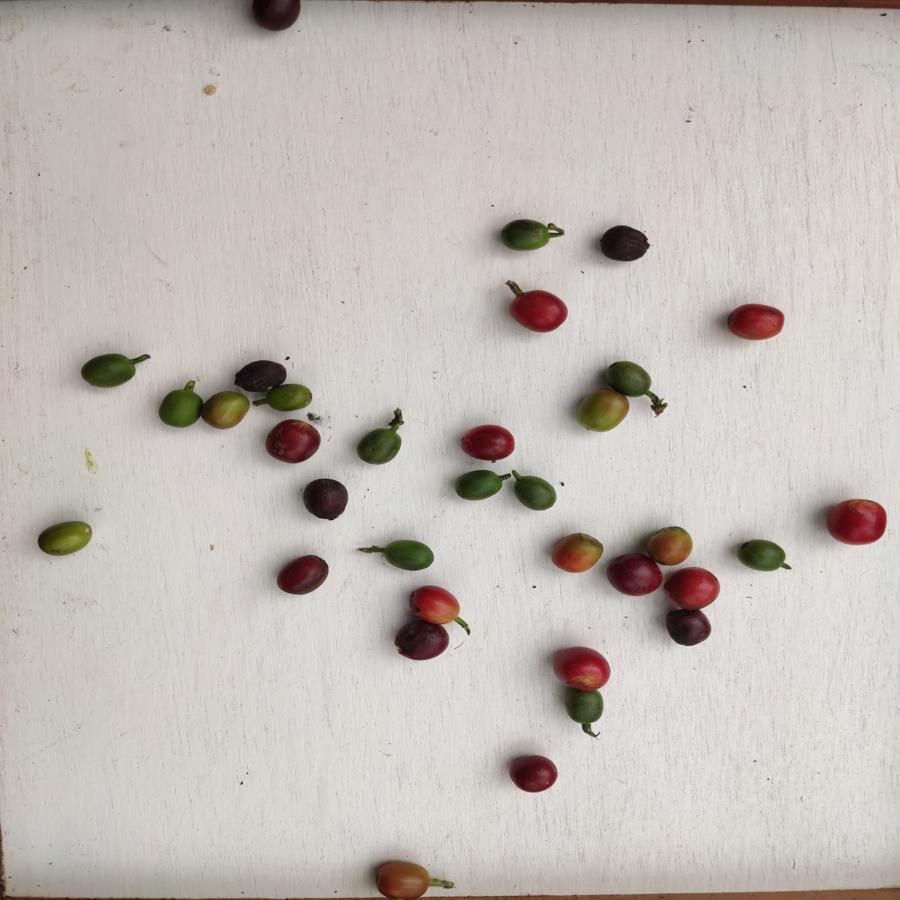Inmaduro: (736, 535, 791, 579), (606, 357, 659, 401), (80, 352, 138, 390), (376, 536, 434, 572), (512, 473, 564, 513), (564, 690, 608, 737), (455, 468, 508, 504), (499, 217, 553, 252), (158, 388, 201, 429), (358, 426, 404, 464), (265, 382, 313, 415)
Maduro: (823, 494, 887, 546), (509, 286, 569, 335), (722, 301, 791, 343), (405, 582, 467, 626), (457, 421, 517, 463), (554, 648, 611, 692), (668, 565, 723, 609)
Pinton: (368, 856, 436, 898), (198, 386, 254, 431), (36, 517, 94, 560), (575, 389, 633, 432), (551, 530, 604, 573), (646, 524, 694, 565)
Sobremaduro: (606, 552, 663, 601), (262, 417, 321, 463), (393, 622, 454, 665), (596, 221, 651, 268), (277, 553, 332, 596), (300, 476, 350, 523), (665, 608, 714, 647), (510, 754, 559, 792), (247, 1, 304, 31), (233, 359, 290, 387)
